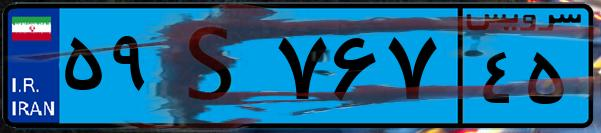4: (475, 38, 525, 113)
5: (57, 26, 110, 100), (525, 38, 570, 115)
6: (330, 28, 385, 110)
7: (270, 28, 330, 110), (385, 28, 445, 110)
9: (110, 28, 158, 98)
S: (158, 12, 270, 120)
